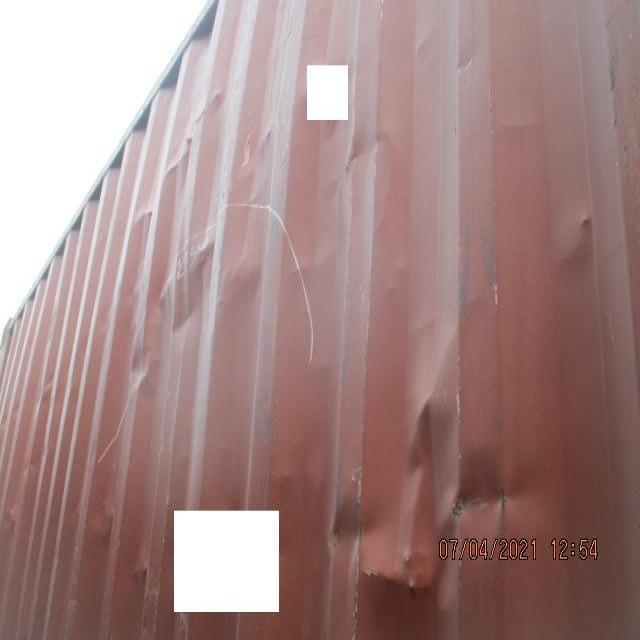Dent: (320, 353, 512, 616), (101, 177, 276, 400)
